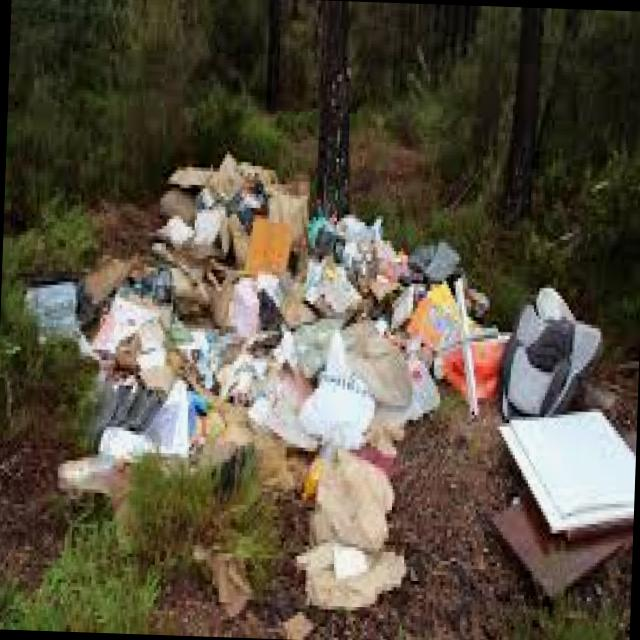garbage: (0, 143, 634, 640)
